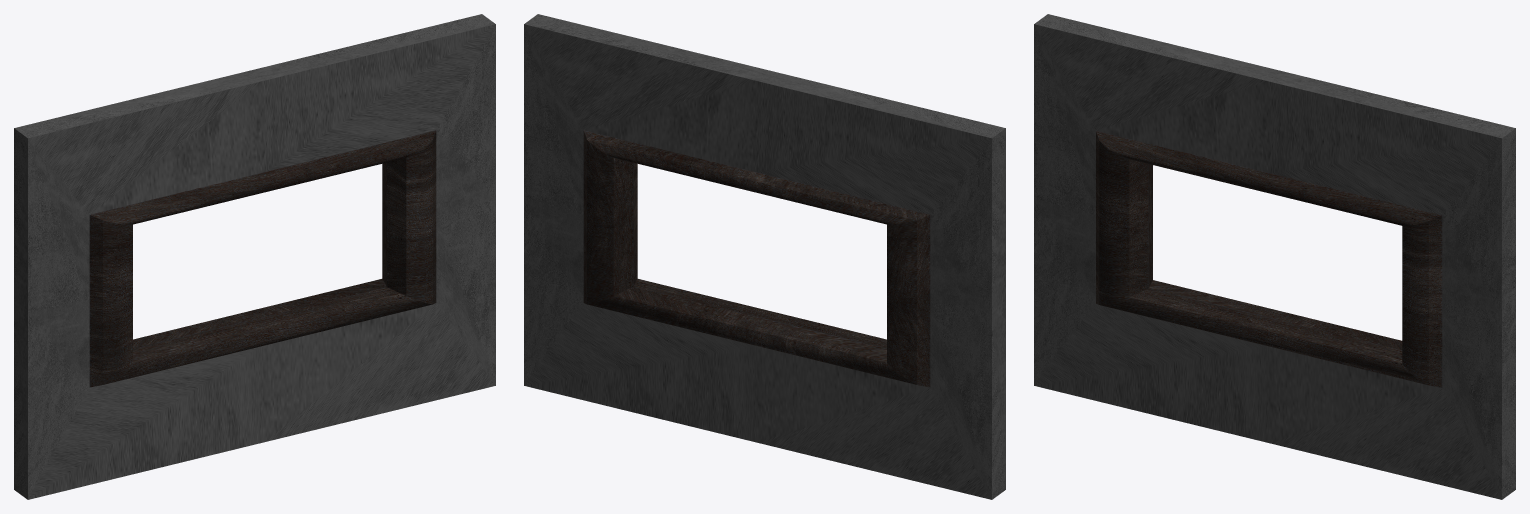
Rendered from Window.fbx.
3 views of the same model, side by side, from view 1: azimuth 30°, elevation 25°; view 2: azimuth 150°, elevation 25°; view 3: azimuth 330°, elevation 25° (orthographic).
Parts seen in each view (by area): view 1: Window; view 2: Window; view 3: Window.
Boxes of the visible parts, x1,y1,x2,y2 form: Window: [14, 14, 495, 499]; Window: [524, 14, 1005, 499]; Window: [1034, 14, 1515, 499].
Bounding box in the file's own units: 406 × 300 × 42.
